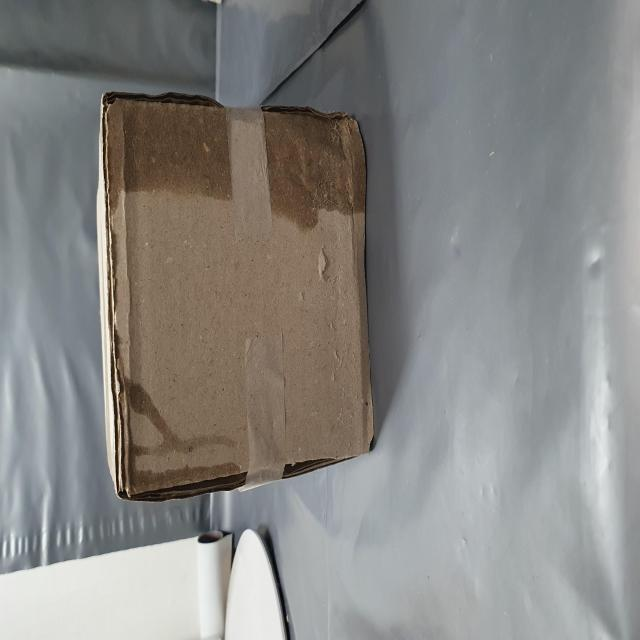wet: (206, 185, 312, 640)
